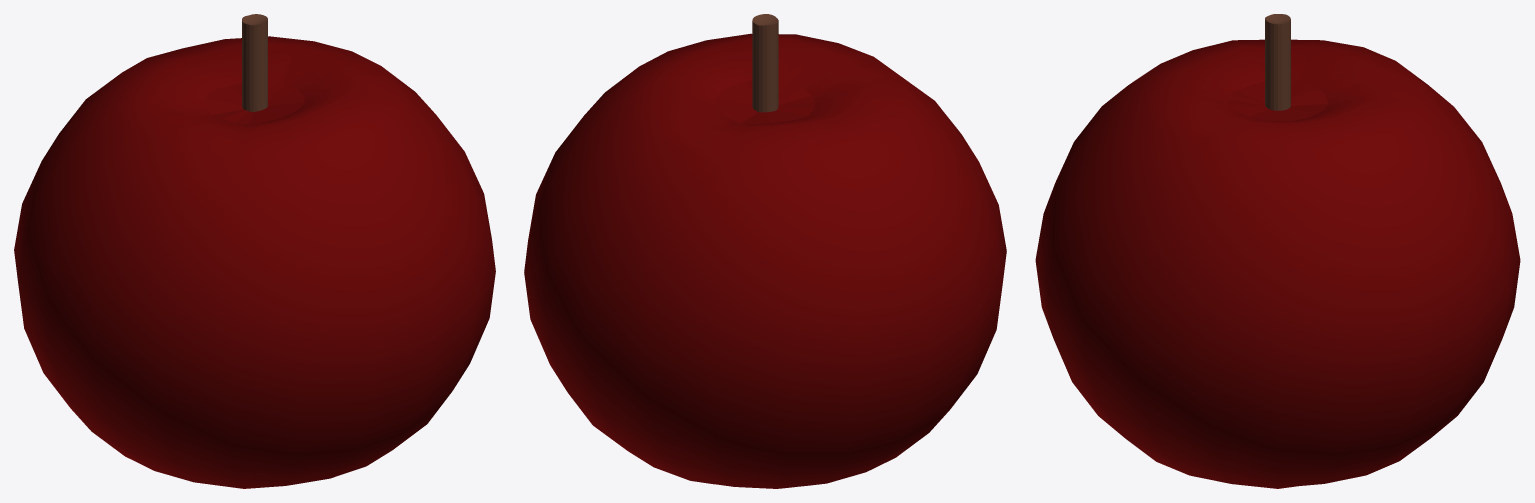
File: redapple.fbx
The picture shows the model from 3 angles, left to right: view 1: azimuth 30°, elevation 25°; view 2: azimuth 150°, elevation 25°; view 3: azimuth 270°, elevation 25°; orthographic projection.
Visible parts, largest first — view 1: apple; view 2: apple; view 3: apple.
Part boxes in pixels (bbox=[...]): apple: bbox=[14, 14, 495, 488]; apple: bbox=[524, 14, 1006, 488]; apple: bbox=[1035, 14, 1520, 488].
Bounding box in the file's own units: 1.98 × 1.93 × 1.98.
